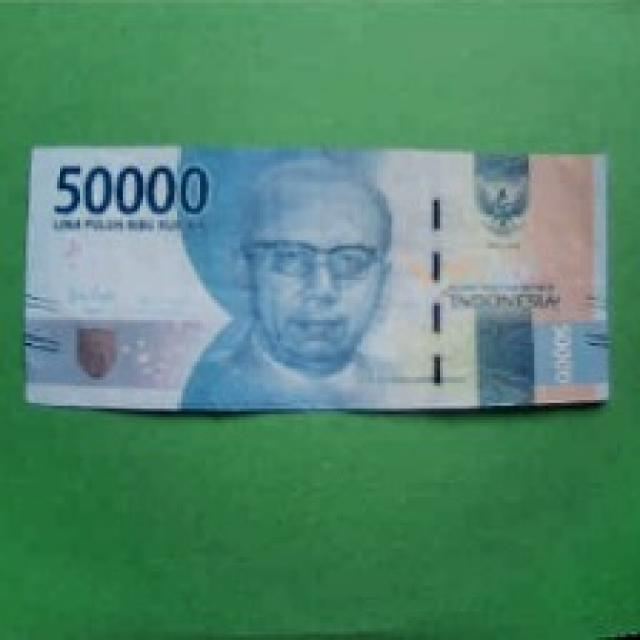dua ribu rupiah: (0, 95, 640, 424)
